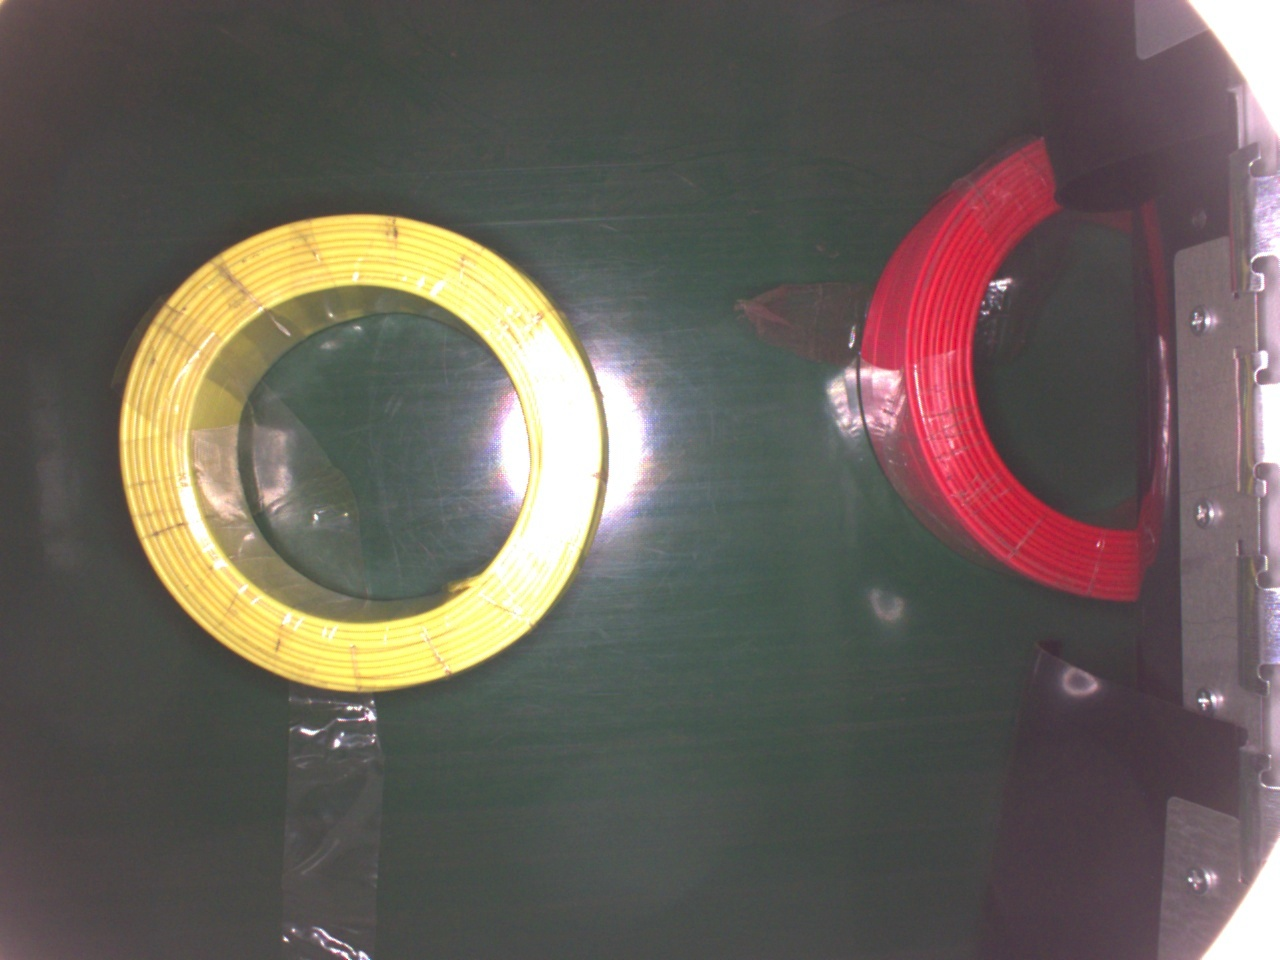red: (850, 131, 1146, 608)
yellow: (118, 208, 609, 699)
